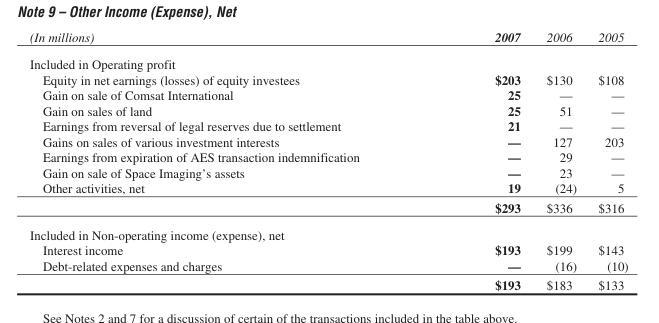table: (29, 29, 627, 291)
table column: (29, 29, 426, 291), (426, 29, 532, 291), (532, 29, 586, 291), (586, 29, 627, 291)
table column header: (29, 29, 627, 50)
table projected row header: (29, 50, 627, 71), (29, 220, 627, 241)
table row: (29, 197, 627, 220), (29, 29, 627, 50), (29, 50, 627, 71), (29, 220, 627, 241), (29, 179, 627, 197), (29, 257, 627, 274), (29, 274, 627, 291), (29, 86, 627, 102), (29, 117, 627, 133), (29, 148, 627, 164), (29, 241, 627, 257), (29, 71, 627, 86), (29, 102, 627, 117), (29, 133, 627, 148), (29, 164, 627, 179)
